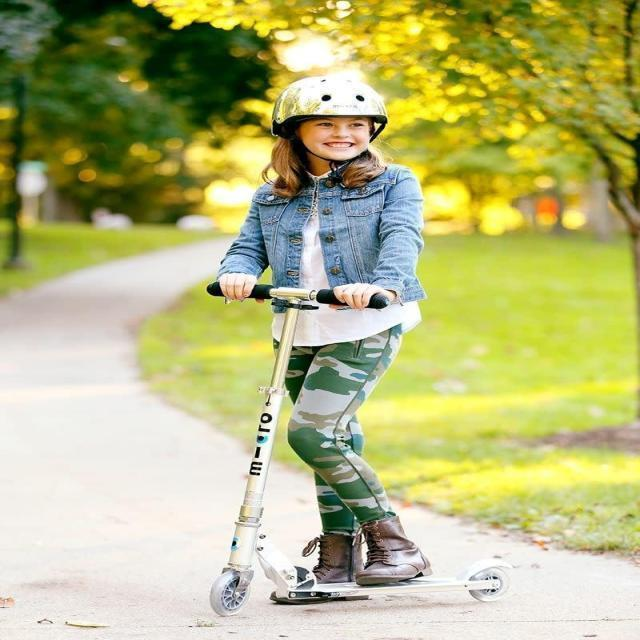helmet: (272, 70, 390, 182)
